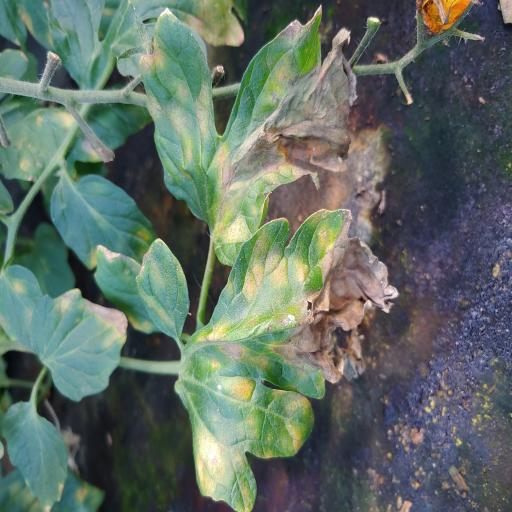Leaf Mold: (175, 207, 399, 512), (138, 3, 359, 265), (28, 286, 130, 402), (136, 238, 190, 340)
